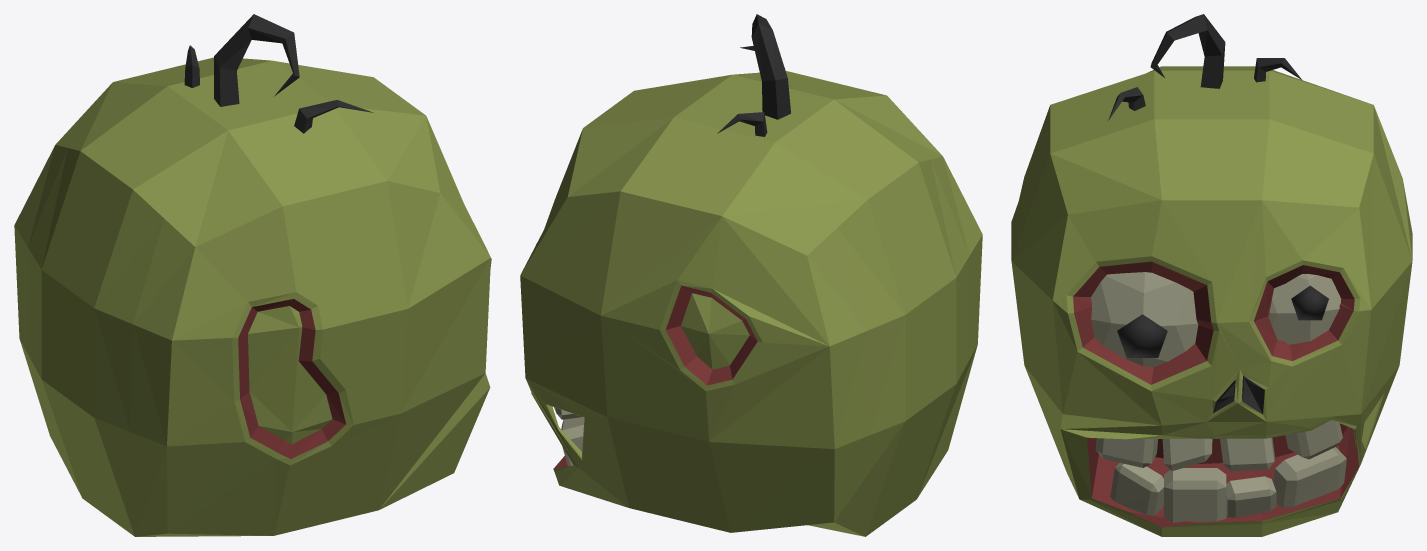
File: 좀비 아이들.FBX
The picture shows the model from 3 angles, left to right: view 1: azimuth 30°, elevation 25°; view 2: azimuth 150°, elevation 25°; view 3: azimuth 270°, elevation 25°; orthographic projection. The views are drawn at different scales.
Parts seen in each view (by area): view 1: Box003; view 2: Box003; view 3: Box003.
Part boxes in pixels (x1,y1,x2,y2): Box003: (14,14,491,536); Box003: (520,14,982,536); Box003: (1011,14,1412,536).
Bounding box in the file's own units: 381 × 373 × 461.
